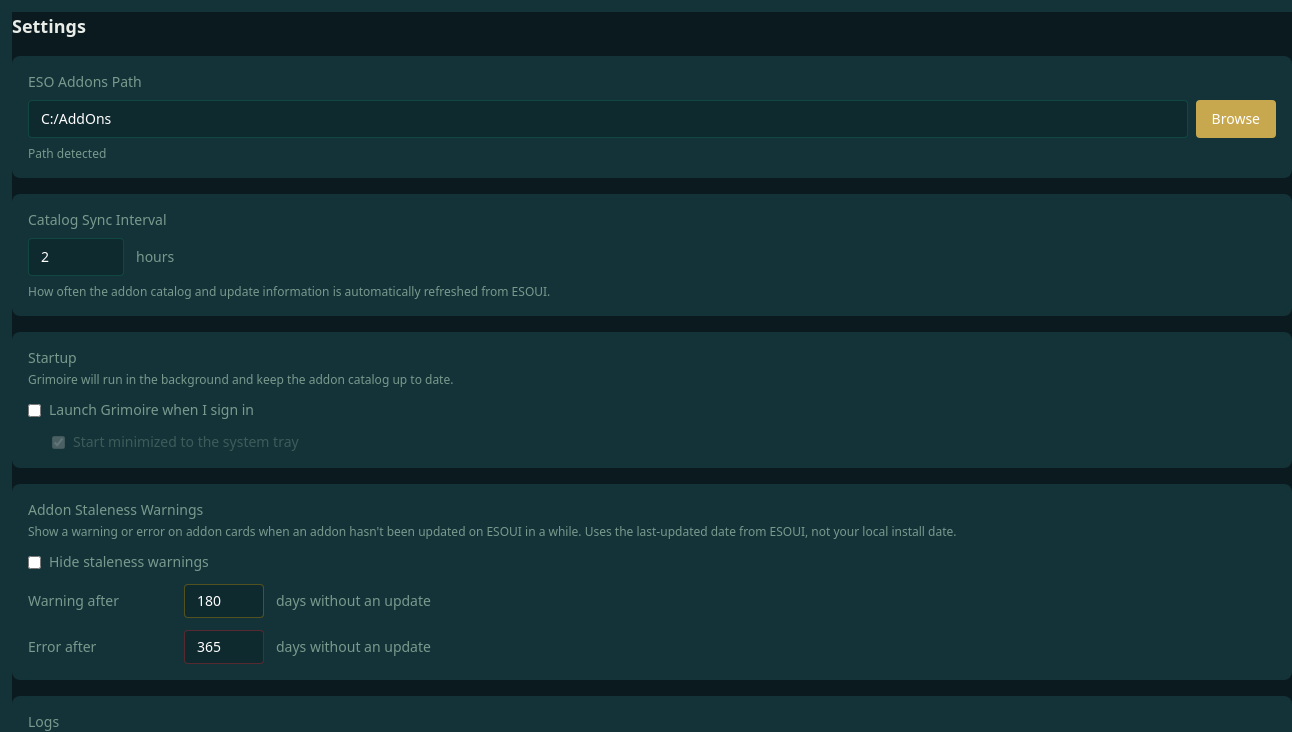
SettingsPage startup › enables launch at login and re-reads the OS status
Check: the text "Path detected" is shown, box [28,145,106,162]
Click the checkbox labelled "Launch Grimoire when I sign in" at x=34, y=410, box [28,404,41,416]
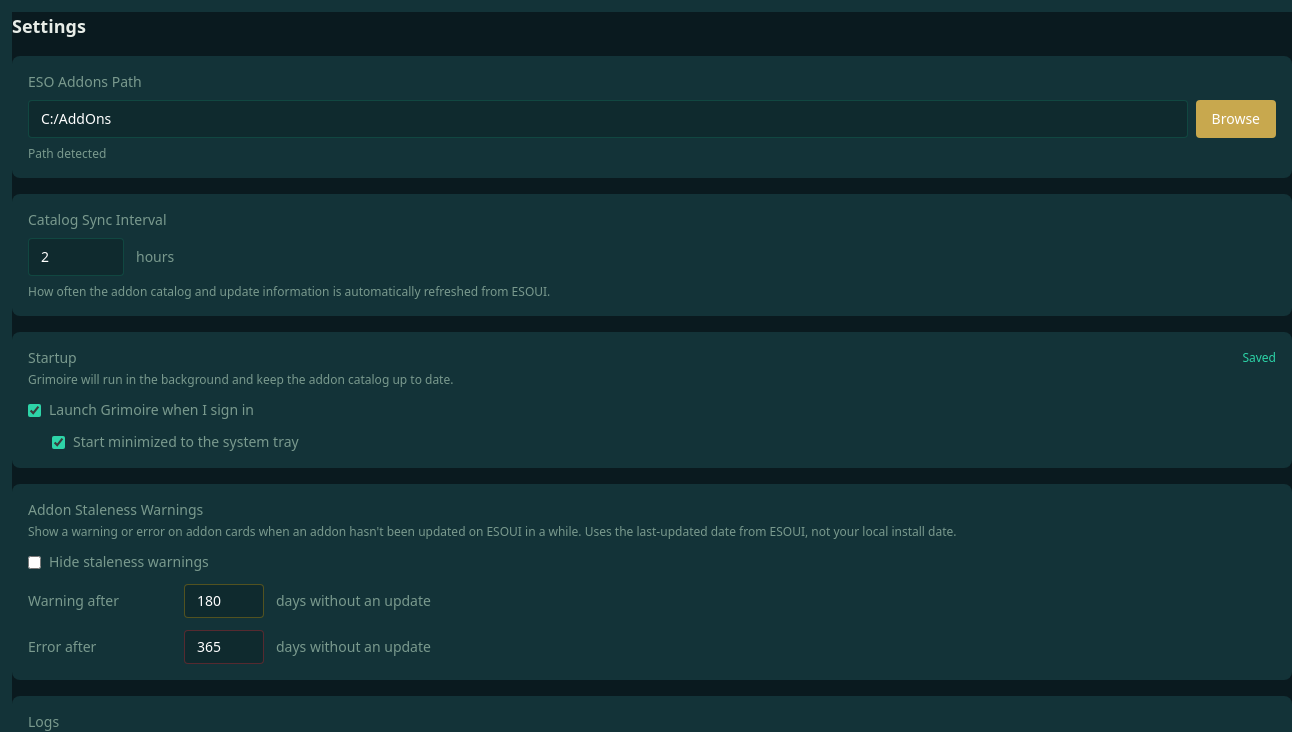
Check: the checkbox labelled "Launch Grimoire when I sign in" is checked, box [28,404,41,416]
Check: the checkbox labelled "Start minimized to the system tray" is enabled, box [52,436,65,448]
Check: the text "Saved" is shown, box [1242,350,1276,366]
